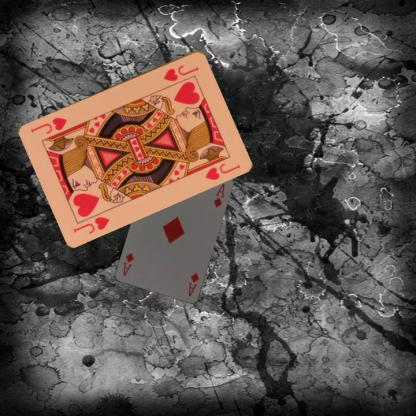Ad: (186, 270, 201, 298)
Jh: (70, 213, 111, 235), (160, 62, 200, 82)
